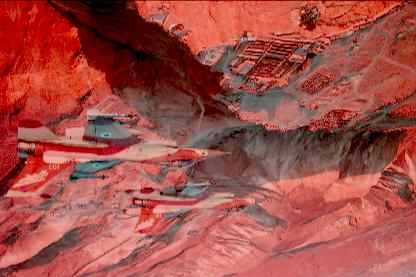F14: (4, 109, 232, 199), (128, 180, 272, 238)
